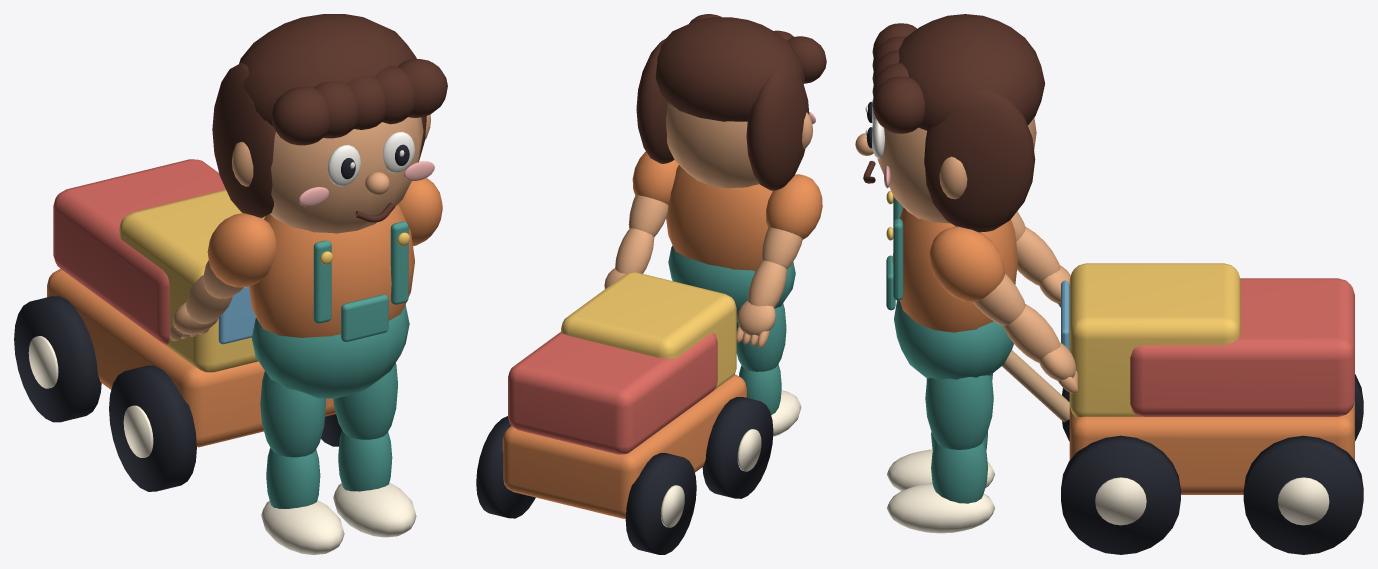
The model's file is ava-pull.glb.
3 views of the same model, side by side, from view 1: azimuth 30°, elevation 25°; view 2: azimuth 150°, elevation 25°; view 3: azimuth 270°, elevation 25° (orthographic). The views are drawn at different scales.
Visible parts, largest first — view 1: wagon cargo, soft shirt, vehicle body, hair cap, clay head, cabin, overalls, rubber wheel, rubber wheel.001, bob hair, shirt sleeve, trouser leg (+23 smaller); view 2: wagon cargo, vehicle body, cabin, hair cap, soft shirt, bob hair, clay head, rubber wheel.001, rubber wheel, rubber wheel.003, overalls, shirt sleeve (+13 smaller); view 3: wagon cargo, cabin, vehicle body, bob hair.001, hair cap, rubber wheel.003, rubber wheel.002, soft shirt, overalls, trouser leg.001, shirt sleeve.001, clay head (+14 smaller).
Boxes of the visible parts, bbox=[...] form: wagon cargo: bbox=[53, 159, 225, 344]; soft shirt: bbox=[249, 204, 414, 337]; vehicle body: bbox=[47, 268, 335, 447]; hair cap: bbox=[239, 14, 416, 126]; clay head: bbox=[270, 117, 423, 233]; cabin: bbox=[119, 189, 265, 372]; overalls: bbox=[252, 305, 409, 398]; rubber wheel: bbox=[109, 365, 196, 491]; rubber wheel.001: bbox=[14, 296, 101, 422]; bob hair: bbox=[212, 62, 275, 217]; shirt sleeve: bbox=[207, 213, 276, 287]; trouser leg: bbox=[260, 371, 326, 457]; wagon cargo: bbox=[508, 332, 717, 454]; vehicle body: bbox=[502, 374, 746, 518]; cabin: bbox=[561, 272, 736, 389]; hair cap: bbox=[655, 17, 804, 121]; soft shirt: bbox=[666, 165, 772, 271]; bob hair: bbox=[746, 68, 809, 190]; clay head: bbox=[665, 102, 759, 188]; rubber wheel.001: bbox=[625, 453, 696, 554]; rubber wheel: bbox=[702, 397, 773, 498]; rubber wheel.003: bbox=[476, 416, 535, 518]; overalls: bbox=[668, 245, 795, 321]; shirt sleeve: bbox=[766, 174, 822, 239]; wagon cargo: bbox=[1130, 278, 1354, 416]; cabin: bbox=[1069, 263, 1240, 417]; vehicle body: bbox=[1069, 401, 1354, 494]; bob hair.001: bbox=[924, 89, 1035, 232]; hair cap: bbox=[898, 14, 1045, 130]; rubber wheel.003: bbox=[1243, 435, 1363, 554]; rubber wheel.002: bbox=[1061, 435, 1180, 554]; soft shirt: bbox=[892, 207, 1017, 332]; overalls: bbox=[894, 300, 1013, 379]; trouser leg.001: bbox=[925, 375, 993, 449]; shirt sleeve.001: bbox=[929, 226, 1004, 302]; clay head: bbox=[877, 117, 1036, 223].
Size of the model in its own units: 0.87 by 1.87 by 1.78.
